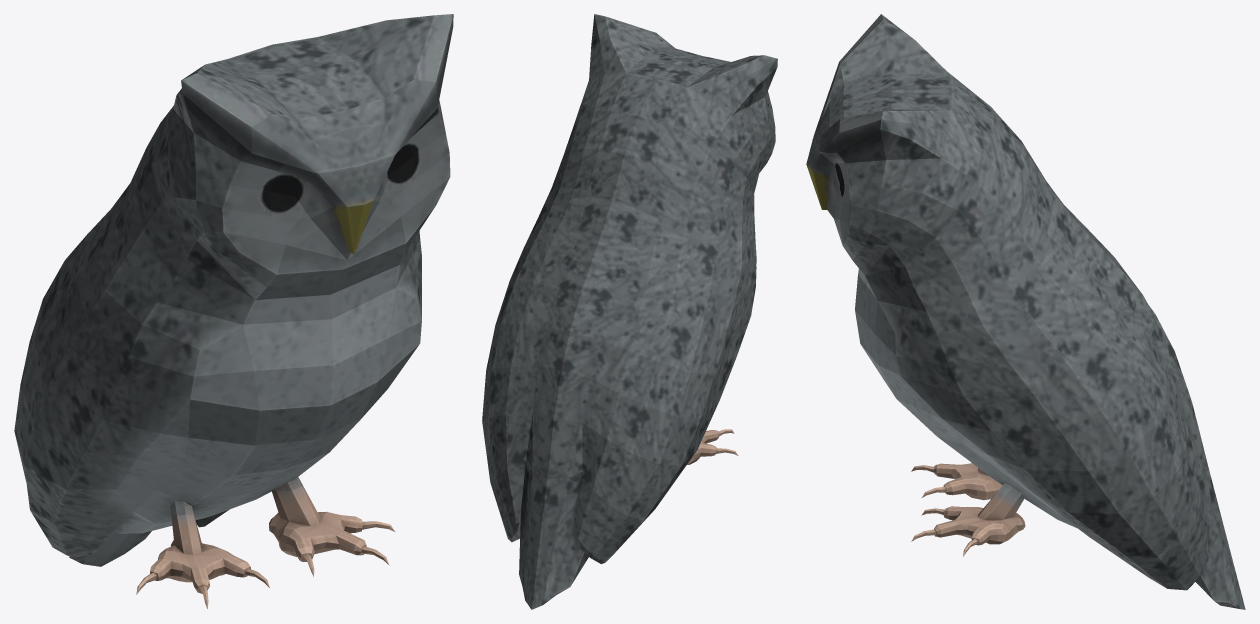
Rendered from Owl.glb.
3 renders of one model, left to right at view 1: azimuth 30°, elevation 25°; view 2: azimuth 150°, elevation 25°; view 3: azimuth 270°, elevation 25°, orthographic. The views are drawn at different scales.
Visible parts, largest first — view 1: ScreechOwl_mesh; view 2: ScreechOwl_mesh; view 3: ScreechOwl_mesh.
Part boxes in pixels (x1,y1,x2,y2): ScreechOwl_mesh: [14, 14, 453, 608]; ScreechOwl_mesh: [482, 14, 777, 609]; ScreechOwl_mesh: [806, 14, 1245, 609].
Size of the model in its own units: 2.99 by 6.31 by 4.62.
Materials: 1 (1 with a texture image).
